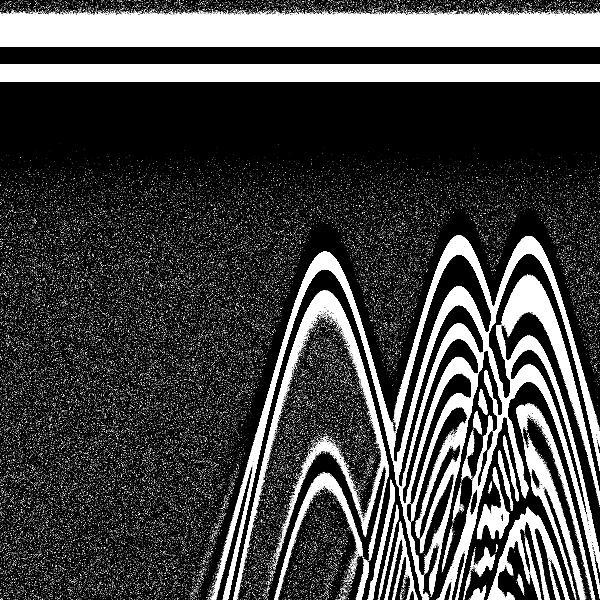pipe: (270, 5, 377, 336), (409, 6, 504, 325), (482, 7, 577, 321)
